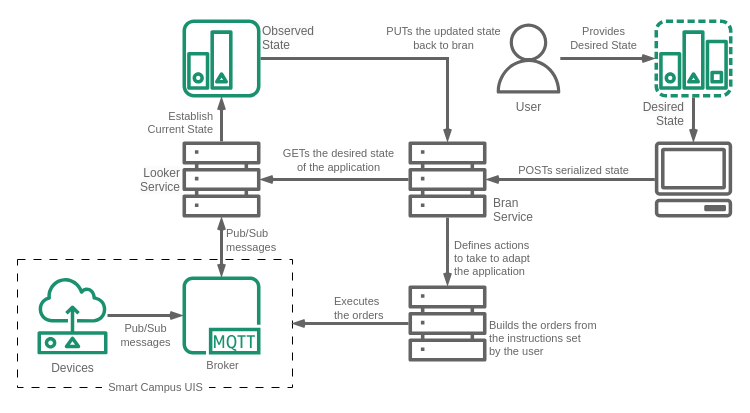
The diagram is 750 pixels wide and 413 high, and some of its shapes have lost their labels. The centre of each missing label's shape, as x and y in pixels:
DoThing: [447,323]
Lexical: [693,179]
